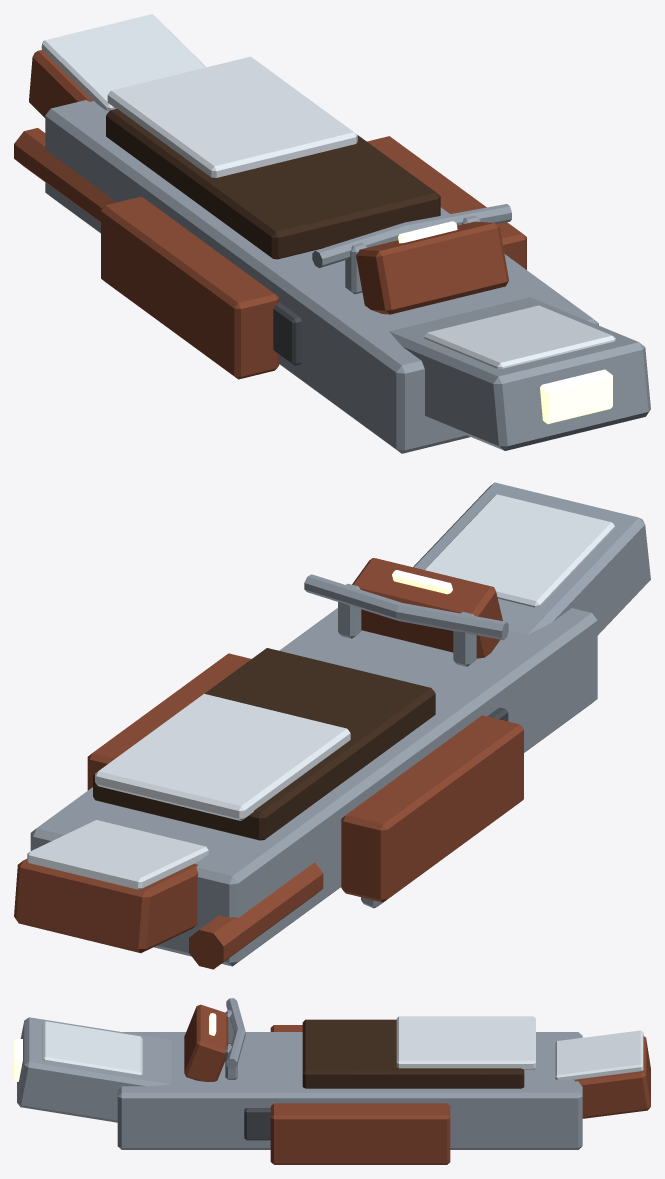
The model's file is Hoverbike.fbx.
3 views of the same model, one above another, from view 1: azimuth 30°, elevation 25°; view 2: azimuth 150°, elevation 25°; view 3: azimuth 270°, elevation 25° (orthographic). The views are drawn at different scales.
Visible parts, largest first — view 1: Hoverbike; view 2: Hoverbike; view 3: Hoverbike.
Part boxes in pixels (<box>): Hoverbike: <box>14,14,650,453</box>; Hoverbike: <box>14,482,650,969</box>; Hoverbike: <box>14,998,650,1164</box>.
Size of the model in its own units: 104 by 72.61 by 301.
